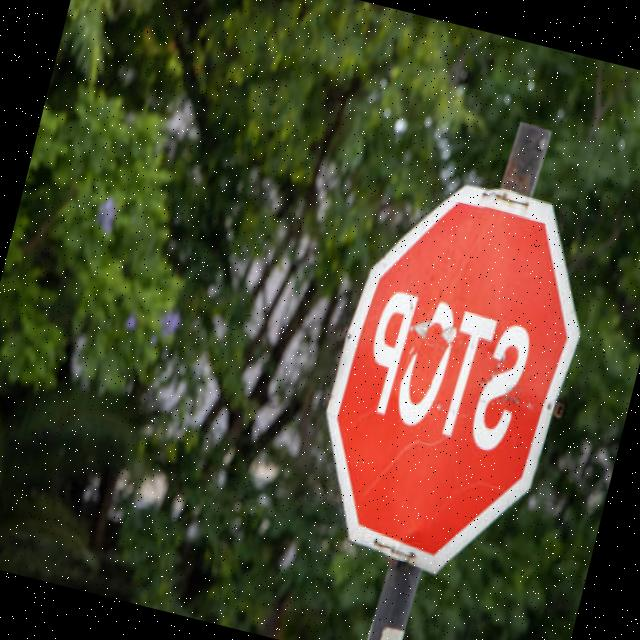stop: (285, 156, 612, 599)
